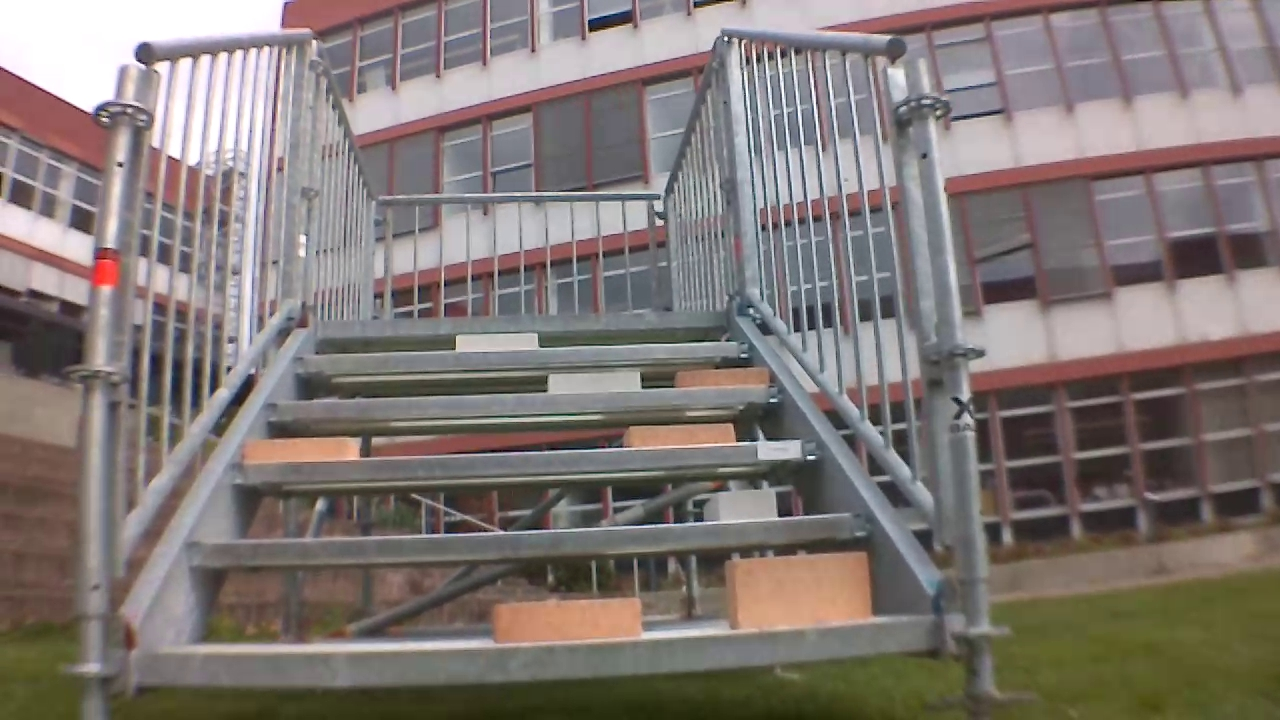brick: (713, 556, 867, 631), (492, 596, 640, 643), (252, 433, 367, 462), (626, 421, 736, 451), (533, 372, 647, 396), (672, 366, 770, 392), (716, 486, 777, 520), (454, 331, 539, 348)
edge: (127, 615, 943, 704), (183, 507, 862, 571), (232, 437, 824, 488), (267, 384, 785, 423), (288, 338, 756, 375), (318, 313, 734, 339)
stairs: (83, 36, 984, 708)
steps: (96, 309, 984, 681)
